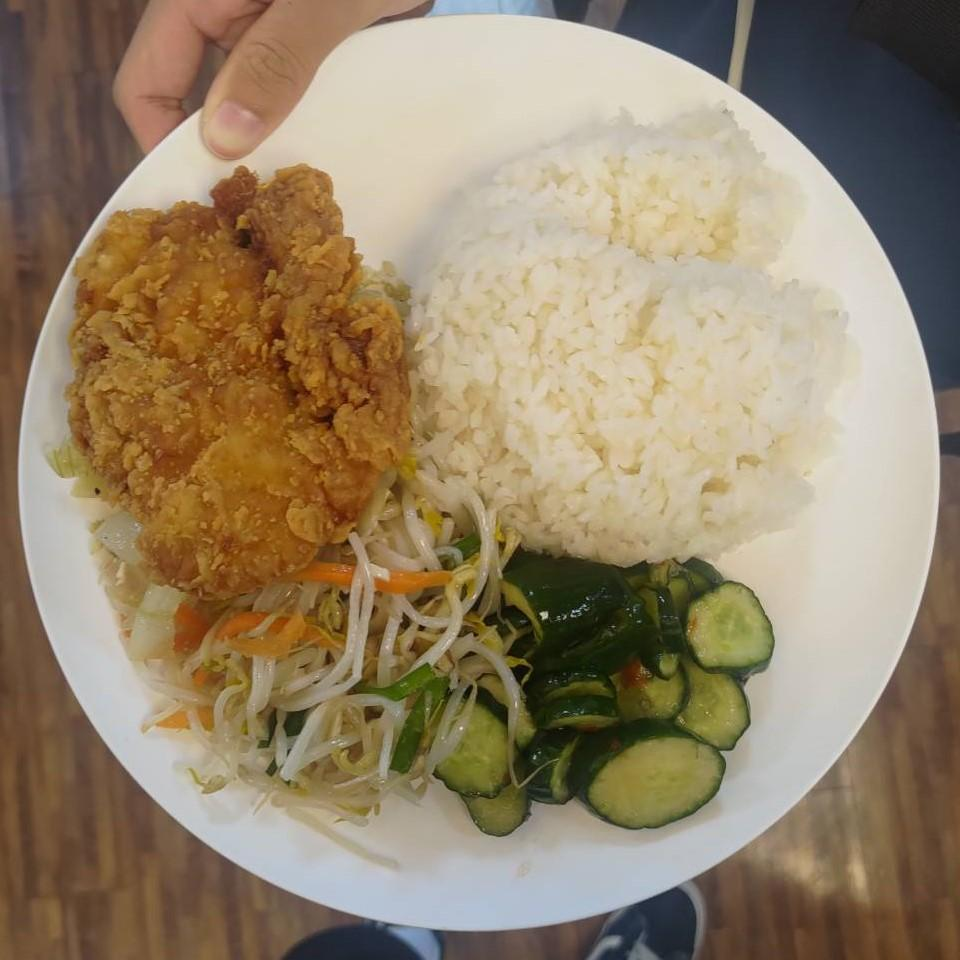big fried chicken leg: (12, 18, 960, 938)
big herbal chicken leg: (404, 95, 852, 580)
braised fish fillet: (163, 482, 506, 807), (411, 546, 784, 834)
braised pork: (65, 160, 406, 597)
